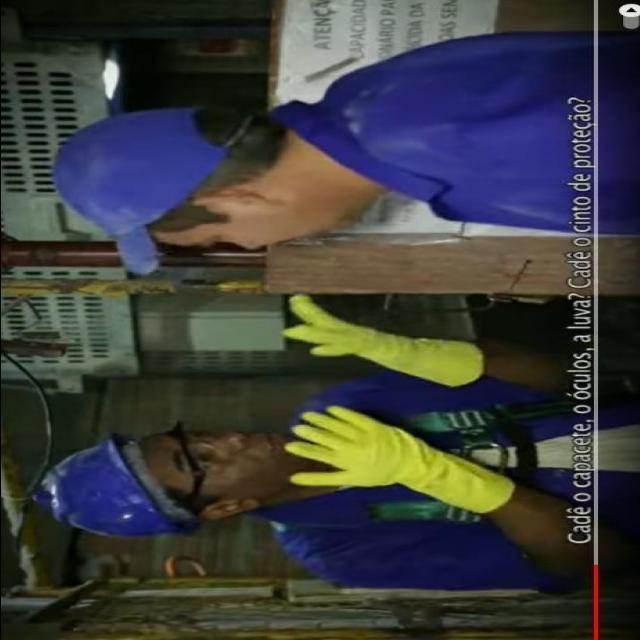helmet: (32, 434, 177, 544)
